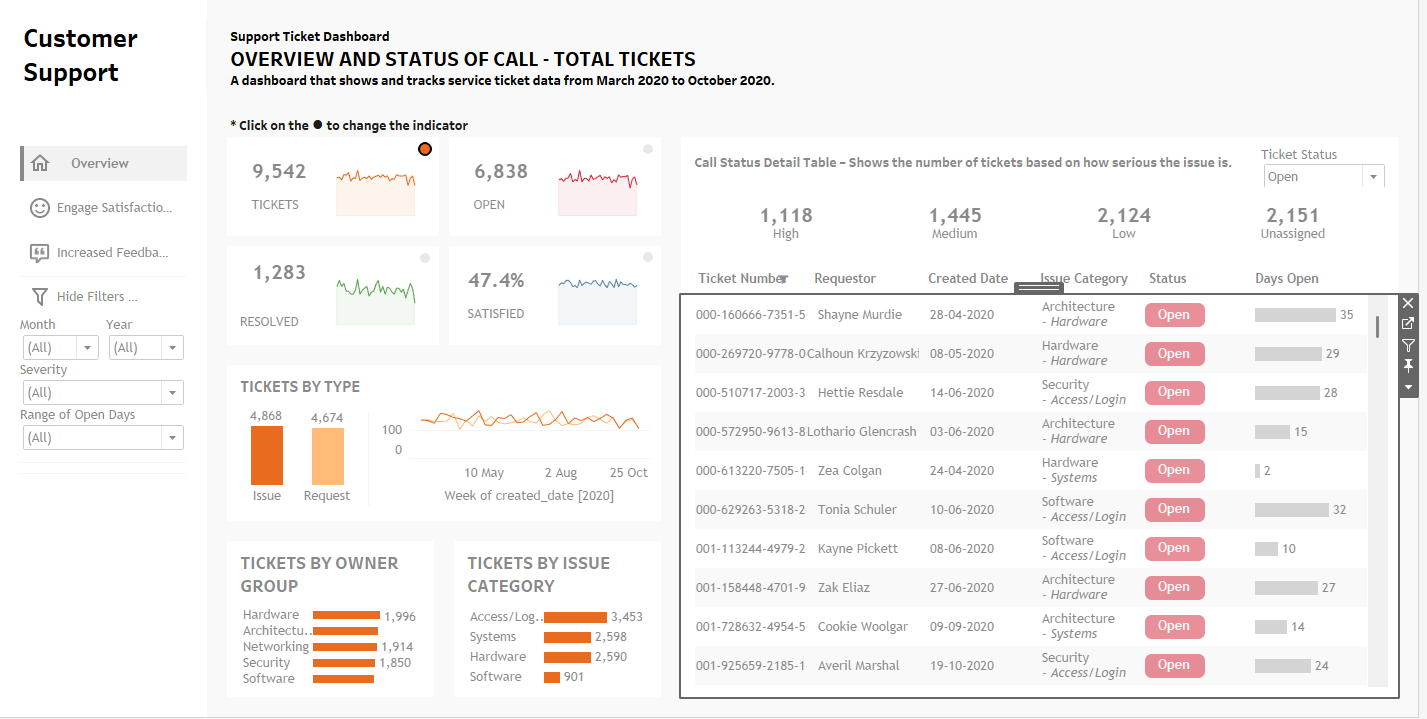

What the dashboard file says about the page in this screenshot:
{"tool":"tableau","page":{"name":"Overview - Light","canvas":[1420,720],"ordinal":2},"visuals":[{"type":"text","box":[1,1,206,110]},{"type":"blank","box":[207,1,1,110]},{"type":"text","box":[208,1,1211,118]},{"type":"text","box":[970,87,265,60]},{"type":"text","box":[228,109,261,30]},{"type":"blank","box":[1,111,207,32]},{"type":"worksheet","title":"Overview Light - Total Tickets","mark":"Square","box":[228,139,85,99]},{"type":"worksheet","title":"Overview Light - Tickets by Week","mark":"Automatic","rows":["Help Desk.csv_86853465DEC54FD19AB014C59E053DA2","Help Desk.csv_86853465DEC54FD19AB014C59E053DA2"],"cols":["created_date"],"box":[313,139,127,99]},{"type":"worksheet","title":"Overview Light - Open Tickets","mark":"Square","box":[450,139,85,99]},{"type":"blank","box":[452,139,95,97]},{"type":"worksheet","title":"Overview Light - Open Tickets by Week","mark":"Automatic","rows":["Help Desk.csv_86853465DEC54FD19AB014C59E053DA2","Help Desk.csv_86853465DEC54FD19AB014C59E053DA2"],"cols":["created_date"],"box":[535,139,127,99]},{"type":"text","box":[682,139,570,50]},{"type":"filter","title":"Overview Light - Table Detail of Tickets","param":"[federated.0cysz861ktjxcq1fd9xv01acxm97].[ticket status (grupo)]","box":[1252,139,147,50]},{"type":"blank","box":[230,140,95,97]},{"type":"worksheet","title":"Overview Light - Parameter Total Tickets","mark":"Circle","box":[415,141,21,20]},{"type":"worksheet","title":"Overview Light - Parameter Open Tickets","mark":"Circle","box":[638,141,21,20]},{"type":"blank","box":[970,147,265,7]},{"type":"blank","box":[21,148,4,35]},{"type":"image","param":"Image/Home.png","box":[25,148,30,35]},{"type":"text","box":[55,148,133,35]},{"type":"text","box":[970,154,265,310]},{"type":"blank","box":[688,190,703,73]},{"type":"blank","box":[21,193,4,35]},{"type":"image","param":"Image/Engage.png","box":[25,193,30,35]},{"type":"dashboard-object","box":[55,193,123,35]},{"type":"blank","box":[178,193,10,35]},{"type":"worksheet","title":"Overview Light - Numbers of Serverity","mark":"Automatic","cols":["severity"],"box":[692,204,697,51]},{"type":"blank","box":[21,238,4,35]},{"type":"image","param":"Image/Feedback.png","box":[25,238,30,35]},{"type":"dashboard-object","box":[55,238,123,35]},{"type":"blank","box":[178,238,10,35]},{"type":"worksheet","title":"Overview Light - Resolved Tickets","mark":"Square","box":[228,248,85,99]},{"type":"worksheet","title":"Overview Light - Resolved Tickets by Week","mark":"Automatic","rows":["Help Desk.csv_86853465DEC54FD19AB014C59E053DA2","Help Desk.csv_86853465DEC54FD19AB014C59E053DA2"],"cols":["created_date"],"box":[313,248,127,99]},{"type":"worksheet","title":"Overview Light - % Satisfaction","mark":"Square","box":[450,248,85,99]},{"type":"worksheet","title":"Overview Light - Satisfied Tickets by Week","mark":"Automatic","rows":["Calculation_719731557468495874","Calculation_719731557468495874"],"cols":["created_date"],"box":[535,248,127,99]},{"type":"blank","box":[229,249,95,97]},{"type":"worksheet","title":"Overview Light - Parameter Satisfied Tickets","mark":"Circle","box":[638,249,21,20]},{"type":"worksheet","title":"Overview Light - Parameter Resolved Tickets","mark":"Circle","box":[415,250,21,20]},{"type":"blank","box":[451,250,95,97]},{"type":"text","box":[692,265,116,32]},{"type":"text","box":[808,265,114,32]},{"type":"text","box":[922,265,112,32]},{"type":"text","box":[1034,265,109,32]},{"type":"text","box":[1143,265,106,32]},{"type":"text","box":[1249,265,140,32]},{"type":"dashboard-object","box":[778,275,12,12]},{"type":"blank","box":[1,278,207,1]},{"type":"blank","box":[21,284,4,30]},{"type":"image","param":"Image/Filter Menu.png","box":[25,284,30,30]},{"type":"dashboard-object","box":[55,284,88,30]},{"type":"blank","box":[143,284,45,30]},{"type":"worksheet","title":"Overview Light - Table Detail of Tickets","mark":"Circle","rows":["ticket_number"],"cols":["Calculation_361413912478396419","Calculation_361413912480407562","Calculation_361413912478396419","Calculation_361413912478396419","Calculation_361413912478396419","days_open"],"box":[682,297,717,402]},{"type":"text","box":[692,297,121,32]},{"type":"filter","title":"Overview Light - Table Detail of Tickets","param":"[federated.0cysz861ktjxcq1fd9xv01acxm97].[none:ticket_number:nk]","box":[813,297,164,32]},{"type":"blank","box":[977,297,412,32]},{"type":"filter","title":"Overview Light - Tickets by Type","param":"[federated.0cysz861ktjxcq1fd9xv01acxm97].[none:Filter Year (cópia)_3909687863732","box":[21,319,84,45]},{"type":"filter","title":"Overview Light - Tickets by Type","param":"[federated.0cysz861ktjxcq1fd9xv01acxm97].[none:Calculation_390968786373120002:ok","box":[105,319,83,45]},{"type":"filter","title":"Overview Light - Tickets by Type","param":"[federated.0cysz861ktjxcq1fd9xv01acxm97].[none:severity:nk]","box":[21,364,167,45]},{"type":"text","box":[228,367,434,32]},{"type":"worksheet","title":"Overview Light - Tickets by Type","mark":"Automatic","rows":["Calculation_260645871150813190"],"cols":["ticket_type"],"box":[228,399,141,124]},{"type":"blank","box":[369,399,1,124]},{"type":"worksheet","title":"Overview Light - Tickets by Type and Week","mark":"Line","rows":["Calculation_260645871150813190"],"cols":["created_date"],"box":[370,399,291,124]},{"type":"worksheet","title":"Overview Light - Tickets by Type and Week (Percent)","mark":"Line","rows":["Calculation_260645871150813190"],"cols":["created_date"],"box":[661,399,1,124]},{"type":"filter","title":"Overview Light - Tickets by Type","param":"[federated.0cysz861ktjxcq1fd9xv01acxm97].[none:Calculation_390968786374774788:nk","box":[21,409,167,45]},{"type":"blank","box":[1,464,207,6]},{"type":"blank","box":[1,470,207,11]},{"type":"blank","box":[1,481,207,238]},{"type":"text","box":[228,543,207,56]},{"type":"text","box":[455,543,207,56]},{"type":"worksheet","title":"Overview Light - Tickets by Owner Group","mark":"Automatic","rows":["owner_group"],"cols":["Calculation_260645871150813190"],"box":[228,599,207,100]},{"type":"worksheet","title":"Overview Light - Tickets by Issue Category","mark":"Automatic","rows":["issue_category"],"cols":["Calculation_260645871150813190"],"box":[455,599,207,100]}]}

Visuals, with their boxes in screenshot pixels (x1, y1, x2, y2), scaled from the page's 1420x720 canvas onto the 1427x719 screenshot:
text: l=1, t=1, r=208, b=111
blank: l=208, t=1, r=209, b=111
text: l=209, t=1, r=1426, b=119
text: l=975, t=87, r=1241, b=147
text: l=229, t=109, r=491, b=139
blank: l=1, t=111, r=209, b=143
"Overview Light - Total Tickets" worksheet (Square marks): l=229, t=139, r=315, b=238
"Overview Light - Tickets by Week" worksheet: l=315, t=139, r=442, b=238
"Overview Light - Open Tickets" worksheet (Square marks): l=452, t=139, r=538, b=238
blank: l=454, t=139, r=550, b=236
"Overview Light - Open Tickets by Week" worksheet: l=538, t=139, r=665, b=238
text: l=685, t=139, r=1258, b=189
"Overview Light - Table Detail of Tickets" filter: l=1258, t=139, r=1406, b=189
blank: l=231, t=140, r=327, b=237
"Overview Light - Parameter Total Tickets" worksheet (Circle marks): l=417, t=141, r=438, b=161
"Overview Light - Parameter Open Tickets" worksheet (Circle marks): l=641, t=141, r=662, b=161
blank: l=975, t=147, r=1241, b=154
blank: l=21, t=148, r=25, b=183
image: l=25, t=148, r=55, b=183
text: l=55, t=148, r=189, b=183
text: l=975, t=154, r=1241, b=463
blank: l=691, t=190, r=1398, b=263
blank: l=21, t=193, r=25, b=228
image: l=25, t=193, r=55, b=228
dashboard-object: l=55, t=193, r=179, b=228
blank: l=179, t=193, r=189, b=228
"Overview Light - Numbers of Serverity" worksheet: l=695, t=204, r=1396, b=255
blank: l=21, t=238, r=25, b=273
image: l=25, t=238, r=55, b=273
dashboard-object: l=55, t=238, r=179, b=273
blank: l=179, t=238, r=189, b=273
"Overview Light - Resolved Tickets" worksheet (Square marks): l=229, t=248, r=315, b=347
"Overview Light - Resolved Tickets by Week" worksheet: l=315, t=248, r=442, b=347
"Overview Light - % Satisfaction" worksheet (Square marks): l=452, t=248, r=538, b=347
"Overview Light - Satisfied Tickets by Week" worksheet: l=538, t=248, r=665, b=347
blank: l=230, t=249, r=326, b=346
"Overview Light - Parameter Satisfied Tickets" worksheet (Circle marks): l=641, t=249, r=662, b=269
"Overview Light - Parameter Resolved Tickets" worksheet (Circle marks): l=417, t=250, r=438, b=270
blank: l=453, t=250, r=549, b=347
text: l=695, t=265, r=812, b=297
text: l=812, t=265, r=927, b=297
text: l=927, t=265, r=1039, b=297
text: l=1039, t=265, r=1149, b=297
text: l=1149, t=265, r=1255, b=297
text: l=1255, t=265, r=1396, b=297
dashboard-object: l=782, t=275, r=794, b=287
blank: l=1, t=278, r=209, b=279
blank: l=21, t=284, r=25, b=314
image: l=25, t=284, r=55, b=314
dashboard-object: l=55, t=284, r=144, b=314
blank: l=144, t=284, r=189, b=314
"Overview Light - Table Detail of Tickets" worksheet (Circle marks): l=685, t=297, r=1406, b=698
text: l=695, t=297, r=817, b=329
"Overview Light - Table Detail of Tickets" filter: l=817, t=297, r=982, b=329
blank: l=982, t=297, r=1396, b=329
"Overview Light - Tickets by Type" filter: l=21, t=319, r=106, b=363
"Overview Light - Tickets by Type" filter: l=106, t=319, r=189, b=363
"Overview Light - Tickets by Type" filter: l=21, t=363, r=189, b=408
text: l=229, t=366, r=665, b=398
"Overview Light - Tickets by Type" worksheet: l=229, t=398, r=371, b=522
blank: l=371, t=398, r=372, b=522
"Overview Light - Tickets by Type and Week" worksheet (Line marks): l=372, t=398, r=664, b=522
"Overview Light - Tickets by Type and Week (Percent)" worksheet (Line marks): l=664, t=398, r=665, b=522
"Overview Light - Tickets by Type" filter: l=21, t=408, r=189, b=453
blank: l=1, t=463, r=209, b=469
blank: l=1, t=469, r=209, b=480
blank: l=1, t=480, r=209, b=718
text: l=229, t=542, r=437, b=598
text: l=457, t=542, r=665, b=598
"Overview Light - Tickets by Owner Group" worksheet: l=229, t=598, r=437, b=698
"Overview Light - Tickets by Issue Category" worksheet: l=457, t=598, r=665, b=698
